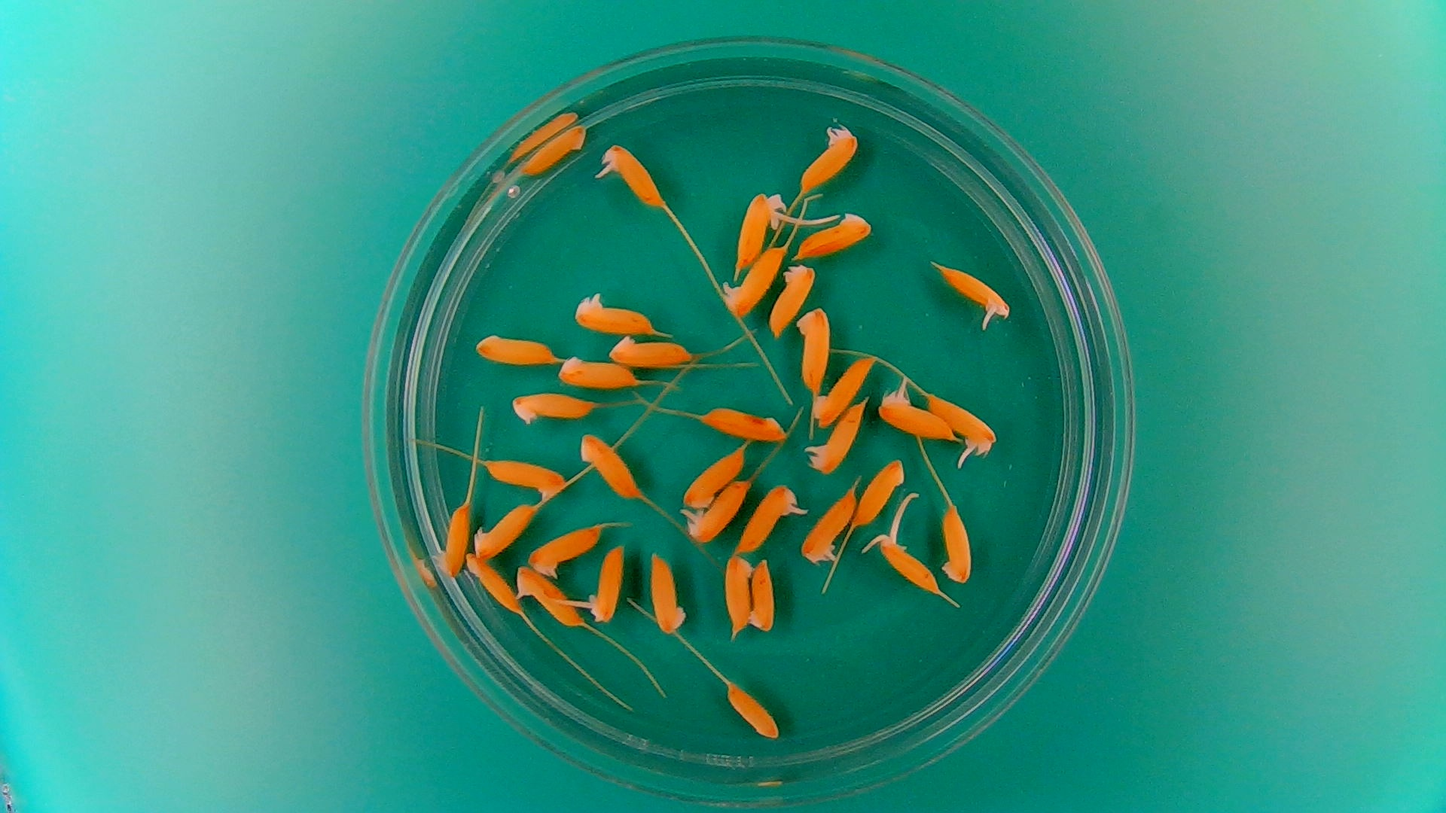no: (721, 242, 789, 318), (813, 352, 880, 429), (804, 480, 859, 565), (806, 400, 868, 475), (577, 431, 642, 500), (679, 441, 749, 505), (799, 121, 859, 193), (517, 120, 590, 177), (794, 209, 874, 260), (573, 288, 657, 335), (767, 260, 815, 340), (474, 502, 538, 562), (697, 403, 788, 444), (483, 457, 565, 502), (466, 551, 522, 614), (856, 457, 906, 525), (649, 550, 688, 635), (727, 681, 782, 738), (509, 390, 596, 426), (607, 333, 692, 369), (938, 501, 974, 586), (472, 331, 557, 367), (796, 305, 830, 391), (431, 501, 468, 577), (557, 354, 639, 388), (723, 552, 752, 633), (749, 556, 776, 632)
yes: (528, 522, 605, 577), (935, 263, 1010, 319), (514, 564, 581, 626), (926, 394, 998, 450), (690, 477, 753, 540), (736, 486, 794, 552), (872, 537, 939, 594), (732, 187, 776, 273), (606, 145, 663, 209), (877, 392, 951, 441), (583, 542, 625, 623)
